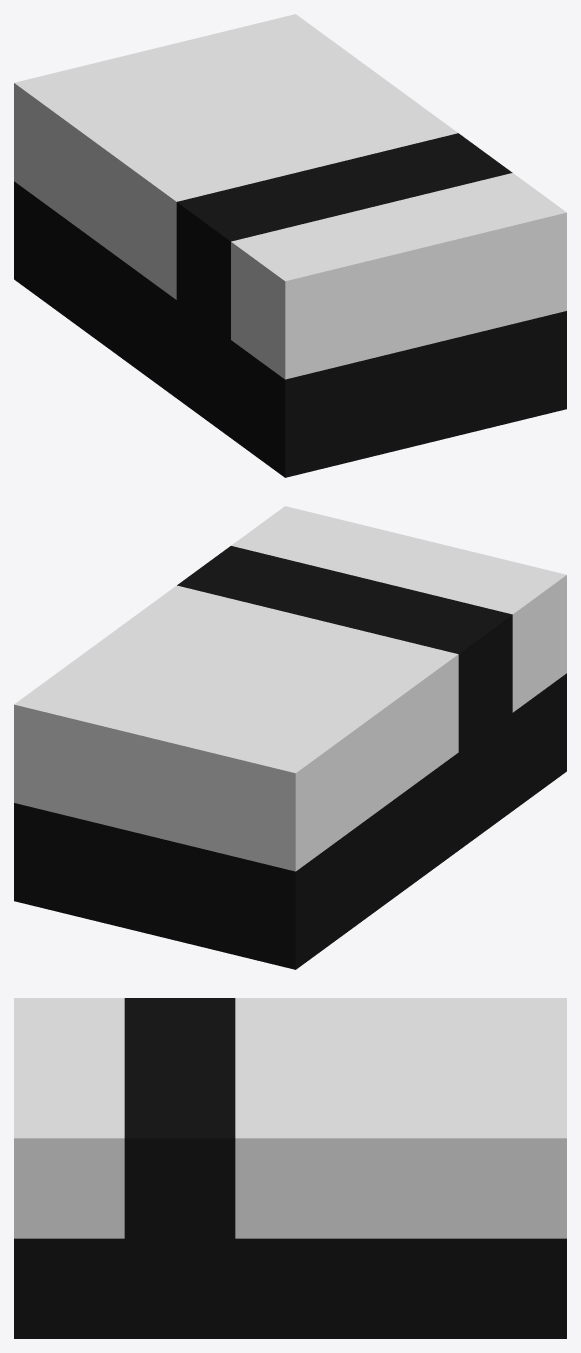
File: JAMIE_FOOT.obj
The picture shows the model from 3 angles, top to bottom: view 1: azimuth 30°, elevation 25°; view 2: azimuth 150°, elevation 25°; view 3: azimuth 270°, elevation 25°; orthographic projection.
Bounding box in the file's own units: 0.3 × 0.2 × 0.5.
Materials: 1 (1 with a texture image).
